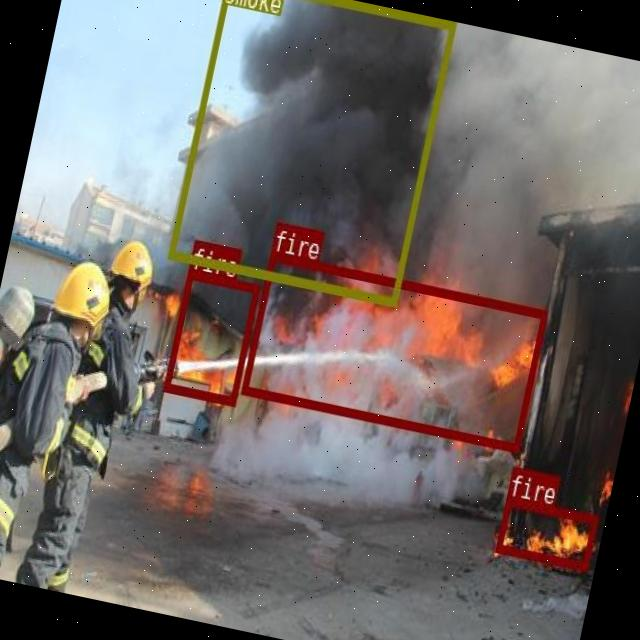fire: (240, 250, 548, 450), (161, 269, 259, 404), (496, 496, 596, 568)
smoke: (166, 0, 454, 303)
